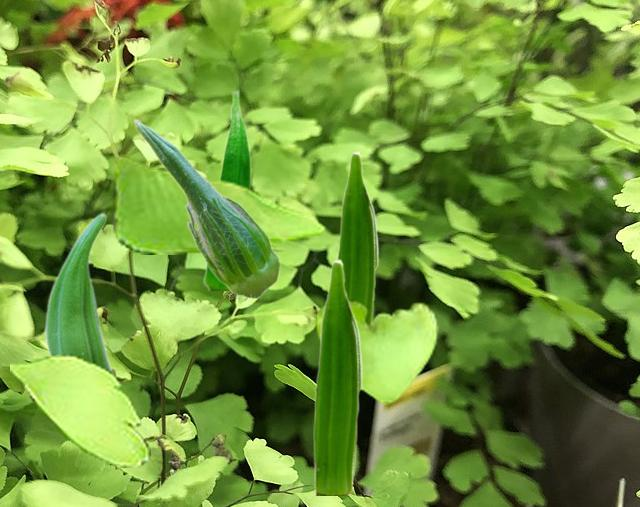okra: (133, 118, 280, 298), (313, 258, 362, 494), (44, 212, 112, 369), (203, 89, 251, 289), (336, 150, 378, 322)
